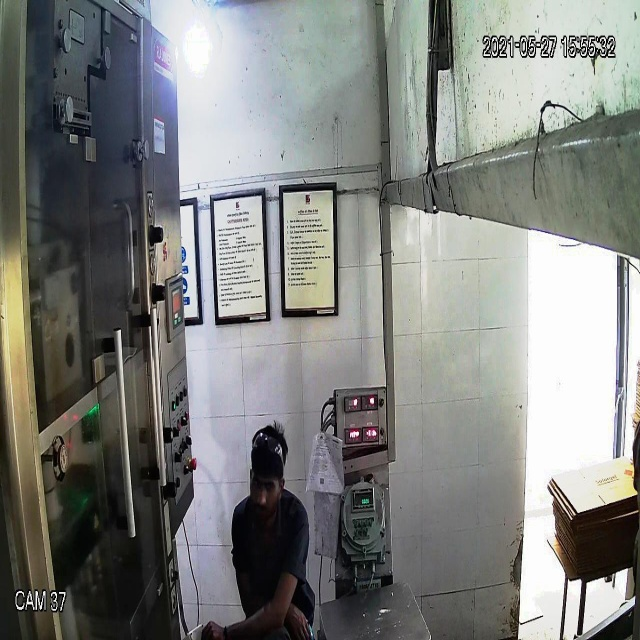Sin_gafas: (250, 472, 284, 501)
